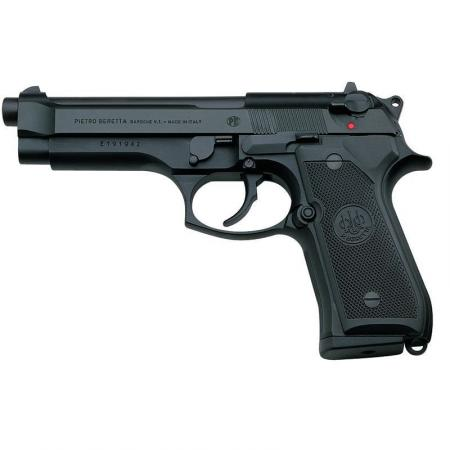Arma Real: (1, 81, 450, 364)
